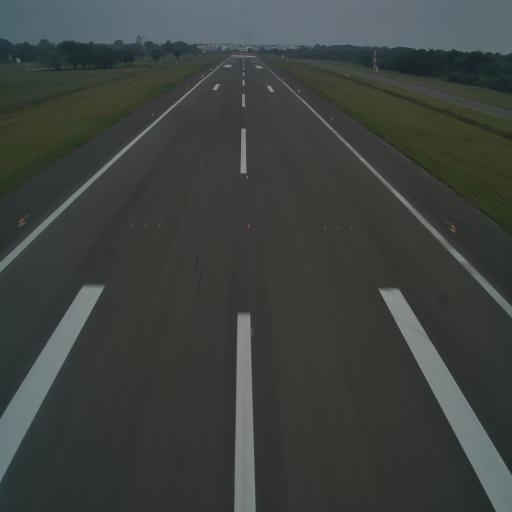off: (349, 223, 355, 235), (129, 219, 135, 230), (143, 220, 149, 230), (156, 220, 162, 228), (323, 224, 329, 232), (336, 223, 342, 231), (296, 147, 301, 154), (192, 146, 197, 152), (305, 148, 309, 155), (186, 144, 190, 150), (245, 146, 248, 152), (178, 144, 180, 152), (289, 147, 292, 152)
on: (17, 209, 29, 229), (446, 220, 457, 236), (245, 220, 253, 234), (250, 324, 256, 342), (244, 173, 251, 184), (330, 115, 334, 124), (244, 126, 248, 134), (151, 112, 155, 116)
